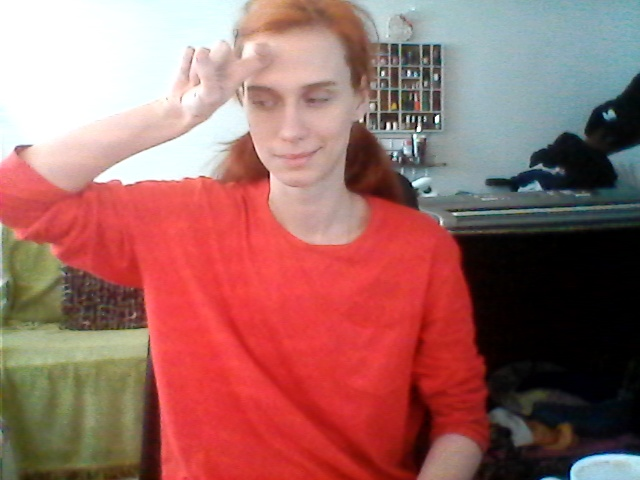chlapec: (179, 32, 283, 132)
